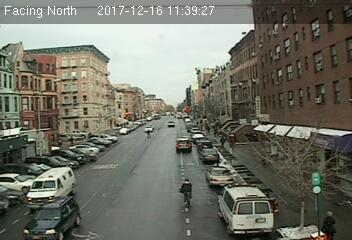bicycle: (177, 177, 194, 209)
car: (23, 198, 80, 240), (205, 164, 234, 188), (177, 136, 192, 154), (202, 148, 219, 162)
police: (218, 181, 275, 231)
truck: (27, 167, 77, 207)
